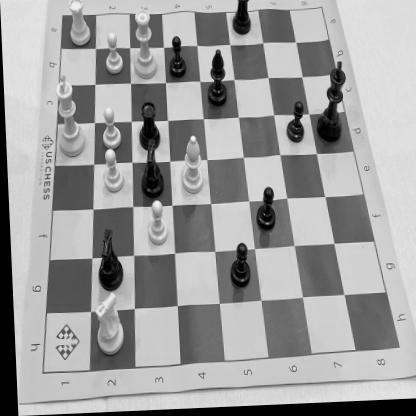black-bishop: (202, 47, 230, 115)
black-king: (309, 56, 351, 150)
black-knight: (93, 225, 124, 296), (134, 137, 166, 203)
black-pawn: (251, 184, 277, 238), (225, 242, 252, 294), (164, 34, 188, 82), (282, 101, 306, 147)
black-rook: (136, 100, 164, 160), (230, 0, 255, 44)
white-bishop: (174, 131, 205, 200)
white-king: (50, 65, 88, 163)
white-knight: (87, 289, 128, 360)
white-pawn: (140, 195, 170, 249), (98, 147, 126, 196), (95, 105, 122, 153), (102, 32, 127, 80)
white-queen: (130, 5, 160, 85)
white-rook: (64, 0, 94, 52)
